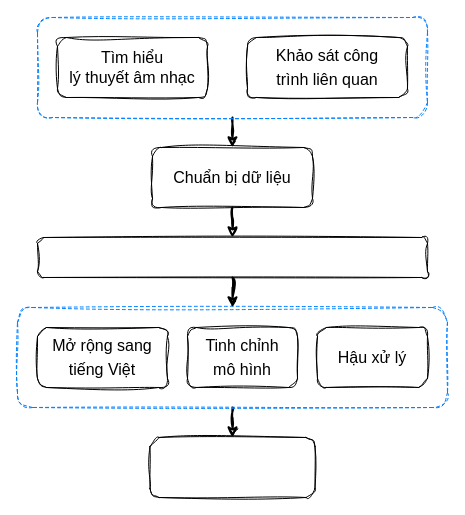
This 465x515 diagram has some shape labels left out. The centre of each missing label's shape, as x and y in pixels:
Dùng LLM để giải quyết bài toán ( tiếng Anh): the point at 232,257
Phát triển ứng dụng: the point at 232,467
